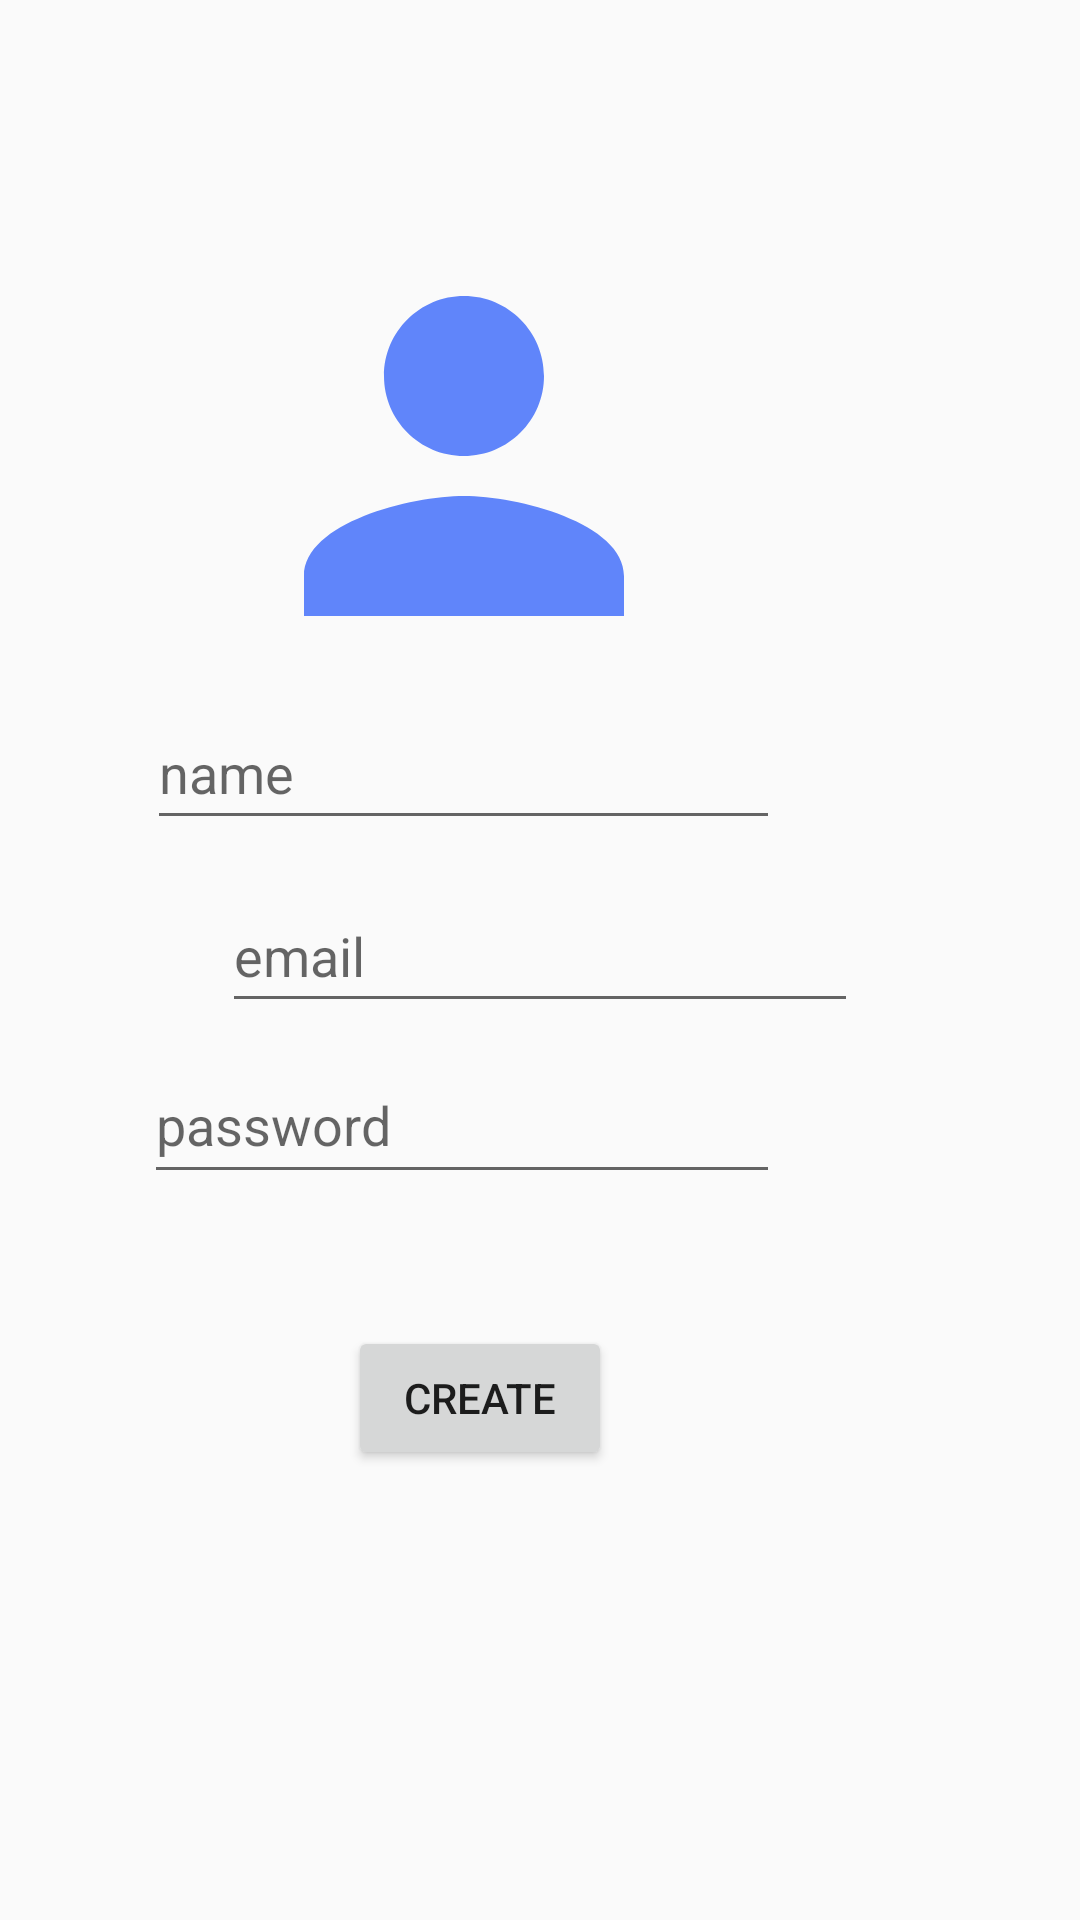

Locate icon controls on the screen. Image size 1080*1920, boxes as {"left": x1, "top": y1, "right": x2, "bottom": y2}.
person: {"left": 304, "top": 296, "right": 624, "bottom": 616}
